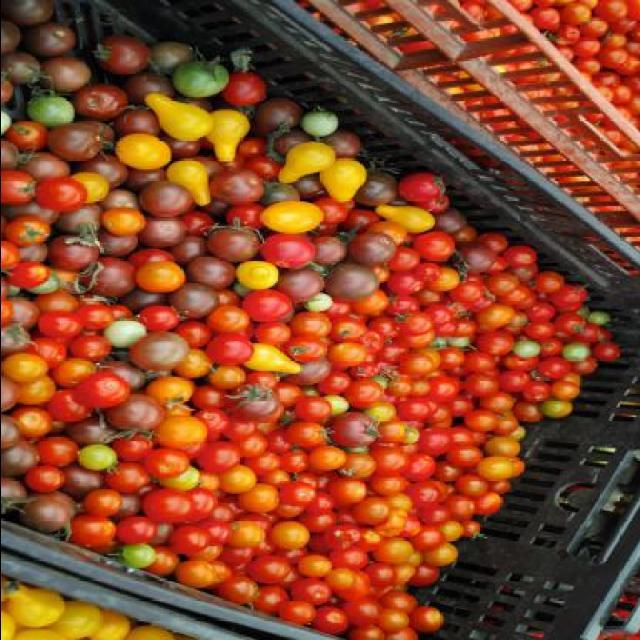Tomato: (1, 0, 624, 640), (293, 0, 640, 272)
